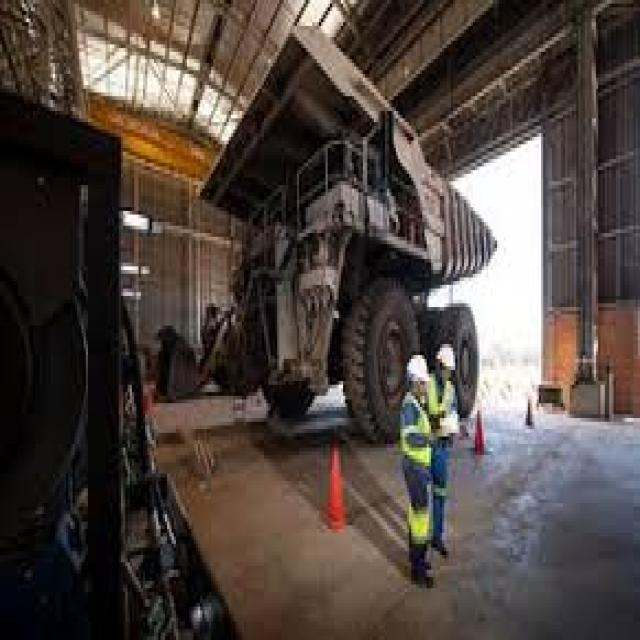dump_truck: (174, 15, 508, 481)
